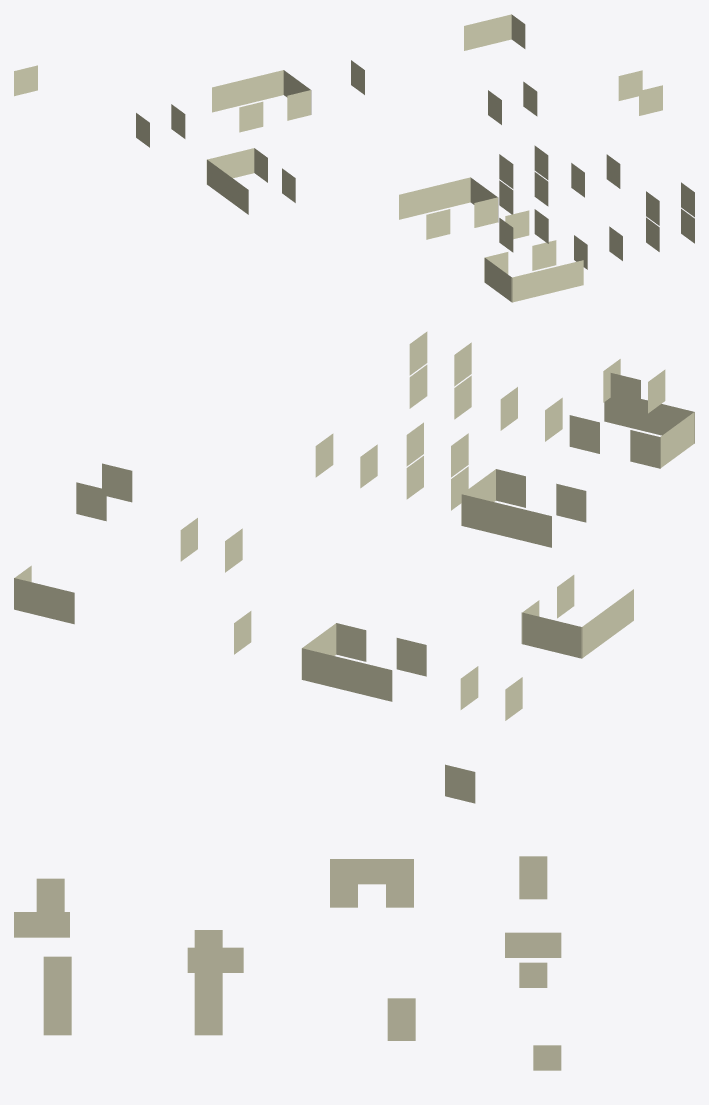
The model's file is object_24_lev2.glb.
3 views of the same model, one above another, from view 1: azimuth 30°, elevation 25°; view 2: azimuth 150°, elevation 25°; view 3: azimuth 270°, elevation 25° (orthographic). The views are drawn at different scales.
Parts seen in each view (by area): view 1: object_24_lev2; view 2: object_24_lev2; view 3: object_24_lev2.
Part boxes in pixels (x1=…): object_24_lev2: x1=14, y1=14, x2=694, y2=302; object_24_lev2: x1=14, y1=331, x2=694, y2=803; object_24_lev2: x1=14, y1=856, x2=561, y2=1070.
Size of the model in its own units: 54.45 by 7.05 by 67.1.
